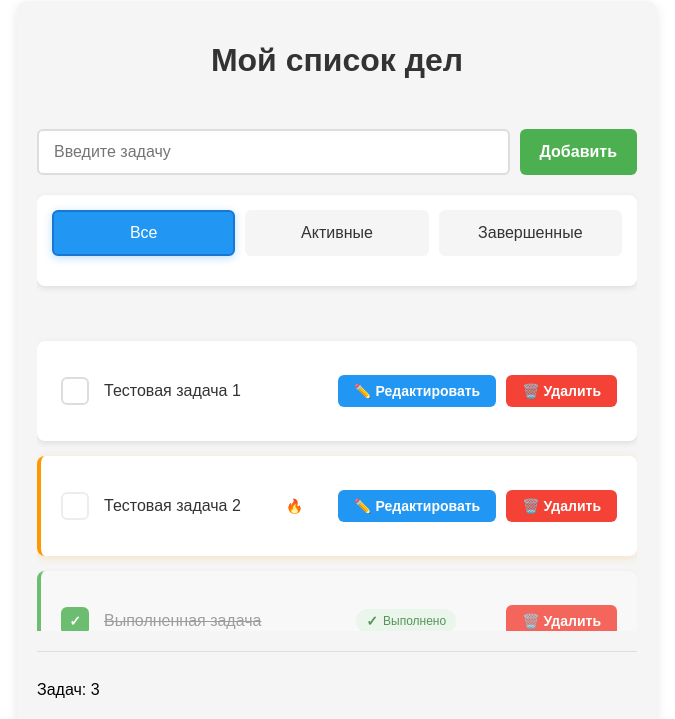
it: App component › Удаляет задачу при клике
Expected: the text "Тестовая задача 1" is shown, 104,382 -> 241,399
Click the button "🗑️ Удалить" in the row of "Тестовая задача 1" at (562,391), box 506,375 -> 617,407
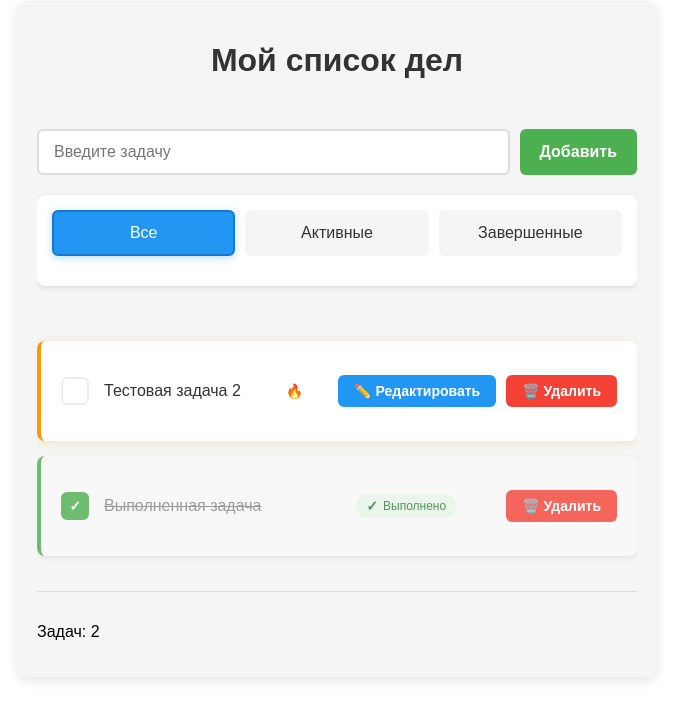
Now the text "Тестовая задача 1" is gone
